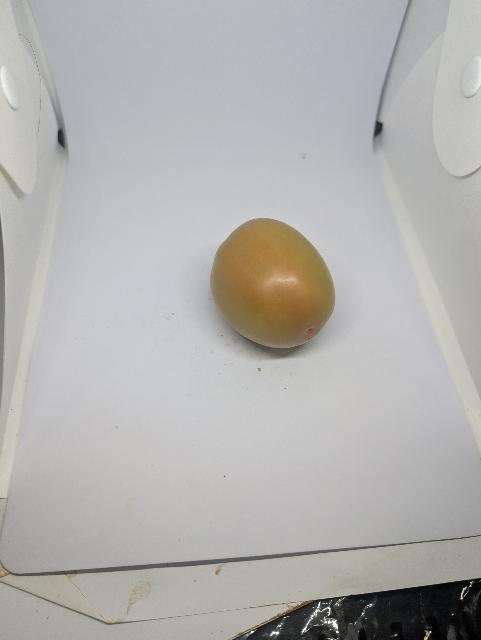breaker: (211, 218, 336, 348)
